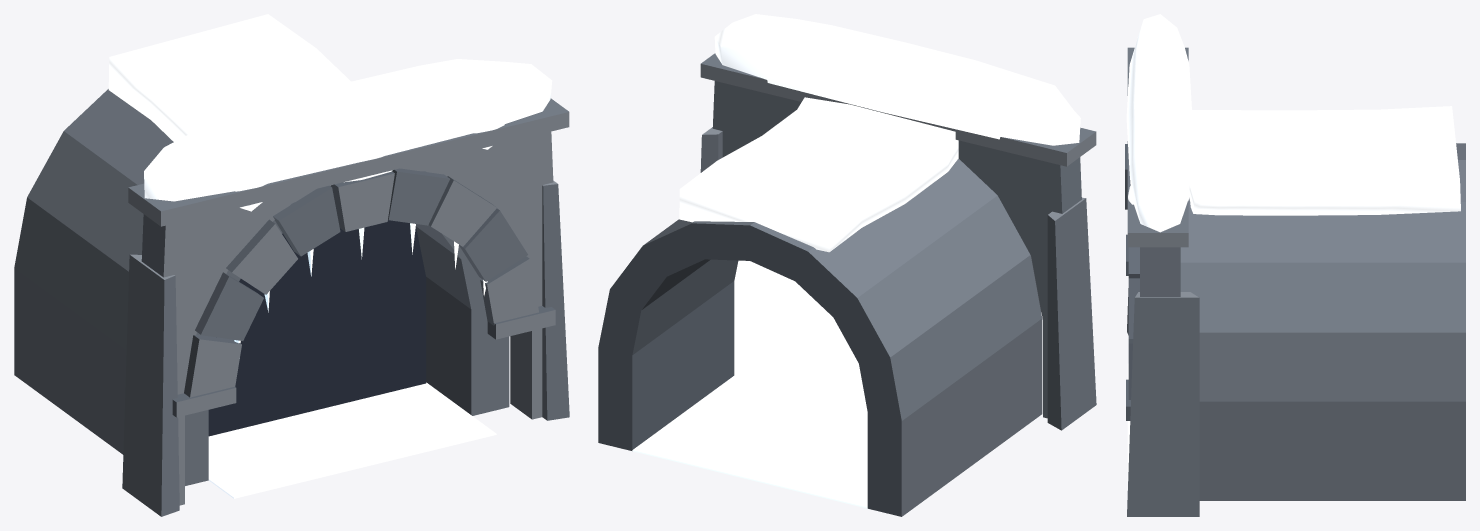
Rendered from tunnel-portal.glb.
3 renders of one model, left to right at view 1: azimuth 30°, elevation 25°; view 2: azimuth 150°, elevation 25°; view 3: azimuth 270°, elevation 25°, orthographic. The views are drawn at different scales.
Visible parts, largest first — view 1: tunnel-portal; view 2: tunnel-portal; view 3: tunnel-portal.
Boxes of the visible parts, bbox=[...] form: tunnel-portal: bbox=[14, 14, 569, 516]; tunnel-portal: bbox=[598, 14, 1096, 516]; tunnel-portal: bbox=[1125, 14, 1465, 516].
Size of the model in its own units: 14 by 11.98 by 10.88.
